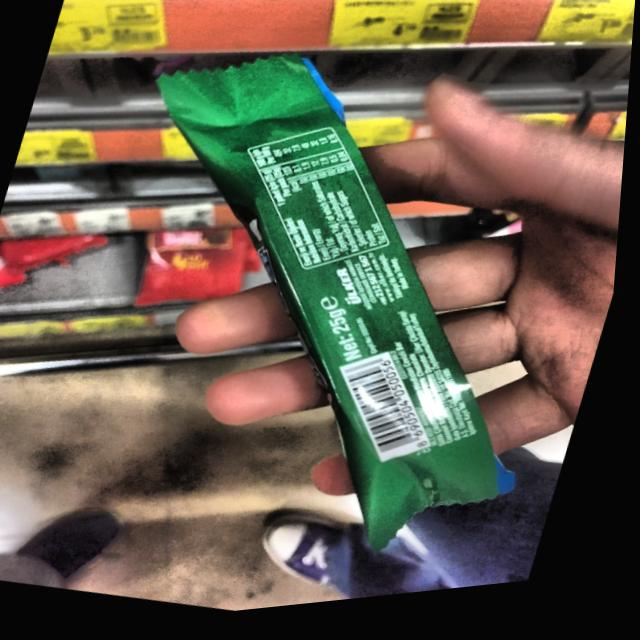Plastic: (157, 54, 534, 565)
